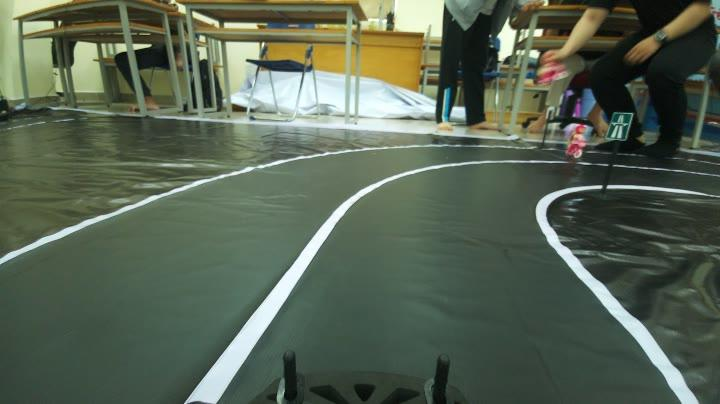highway_entry: (600, 110, 634, 142)
